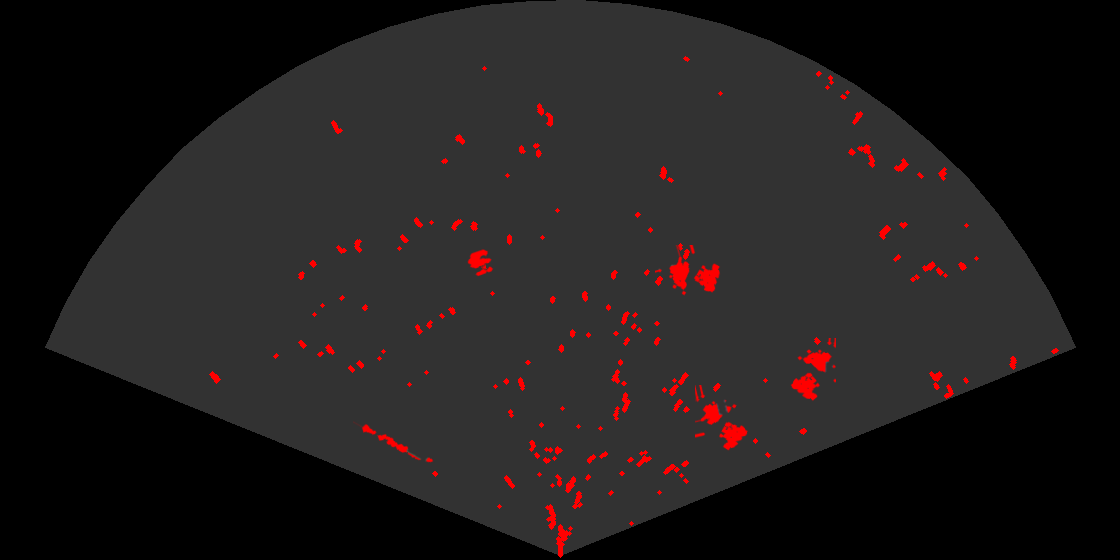ball: (466, 248, 495, 278)
cage: (695, 385, 749, 452), (655, 245, 722, 297), (789, 338, 836, 403)
chain: (353, 420, 435, 464)
